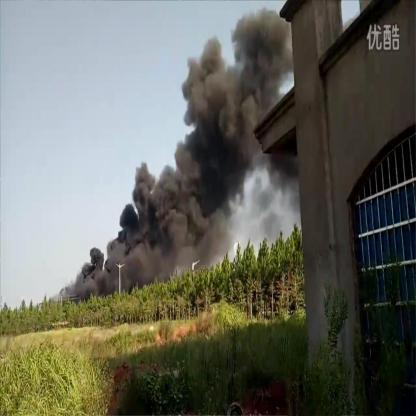smoke: (182, 38, 228, 136), (228, 14, 288, 71), (178, 136, 226, 206), (72, 244, 136, 296), (228, 69, 260, 164), (132, 160, 173, 230), (184, 208, 224, 268), (139, 233, 187, 282)
